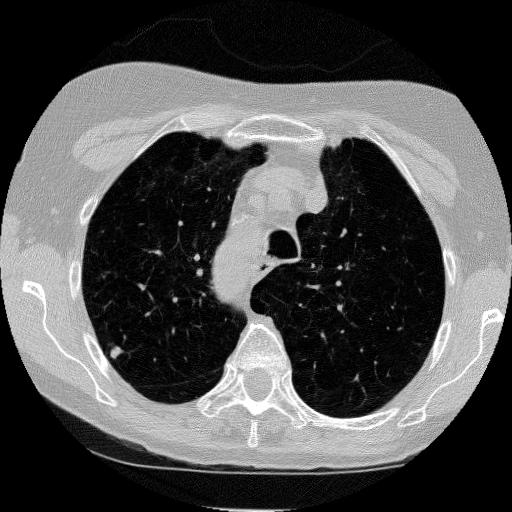nodule: (111, 346, 126, 361)
